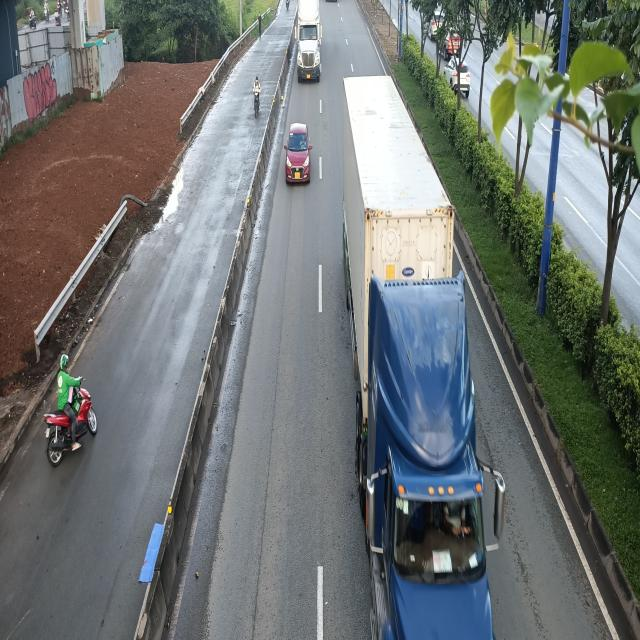car: (283, 122, 311, 186)
container: (342, 74, 503, 640), (294, 1, 320, 83)
